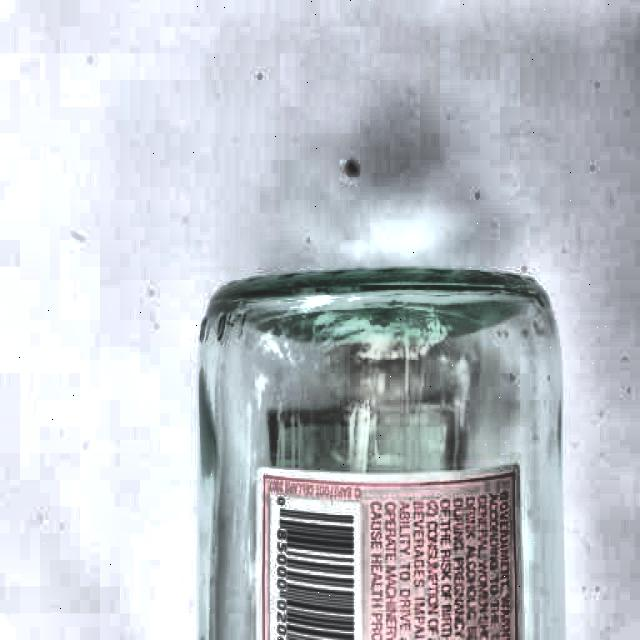glass: (195, 265, 572, 640)
